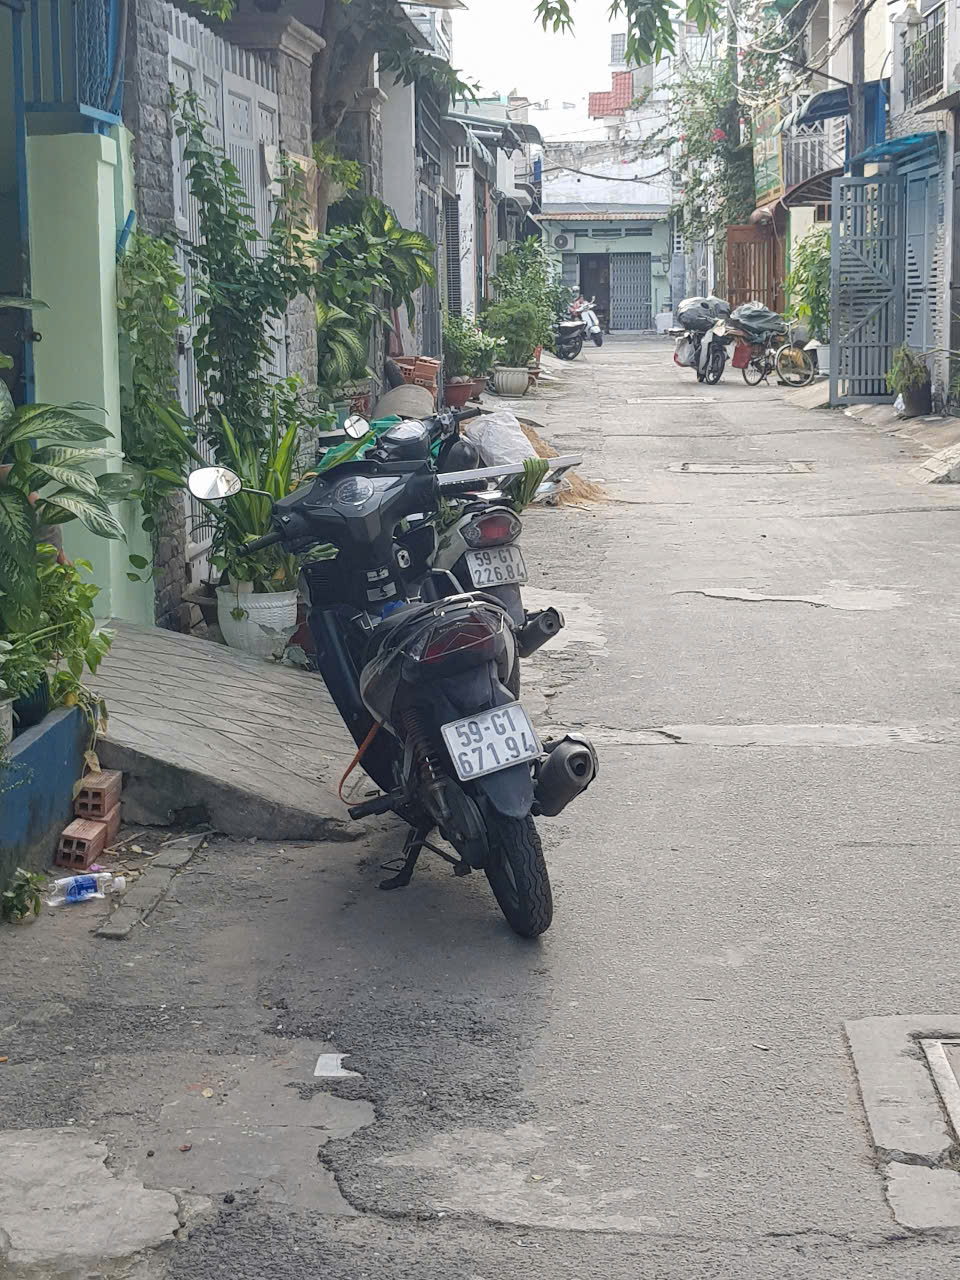bien_so: (442, 703, 541, 777)
